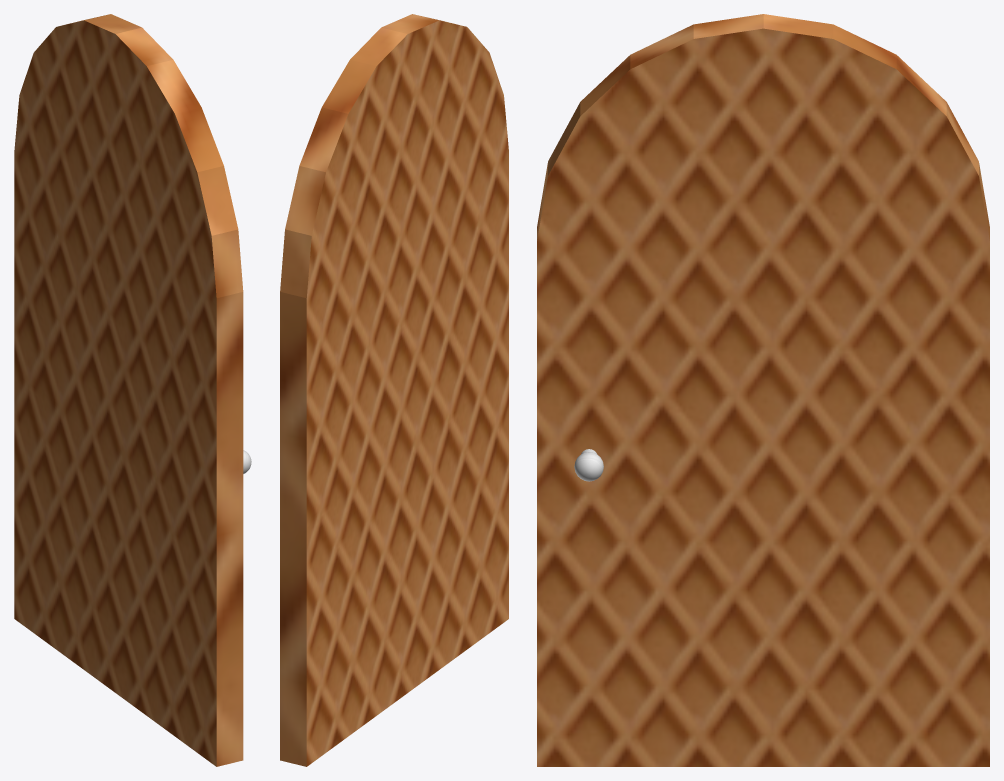
Rendered from door2.fbx.
3 views of the same model, side by side, from view 1: azimuth 30°, elevation 25°; view 2: azimuth 150°, elevation 25°; view 3: azimuth 270°, elevation 25° (orthographic). The views are drawn at different scales.
Visible parts, largest first — view 1: pCylinder14; view 2: pCylinder14; view 3: pCylinder14.
Boxes of the visible parts, box(x1,y1,x2,y2) form: pCylinder14: box(14, 14, 243, 766); pCylinder14: box(280, 14, 508, 766); pCylinder14: box(537, 14, 989, 766).
Size of the model in its own units: 0.3106 by 3.46 by 1.93.
Materials: 1 (1 with a texture image).
